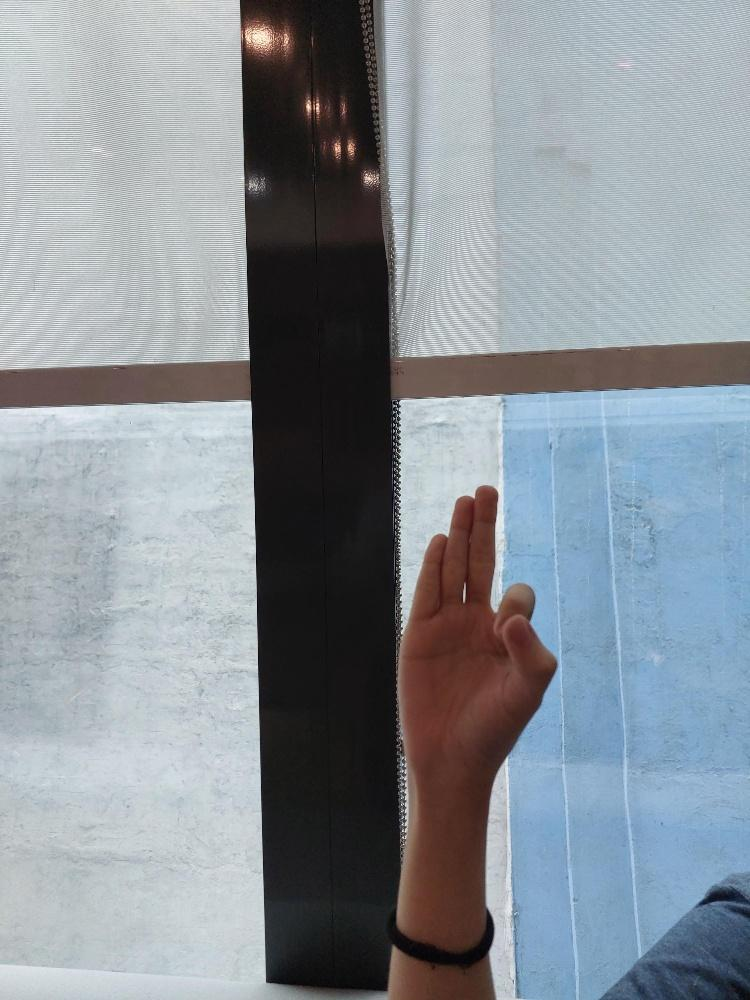f: (397, 483, 561, 773)
